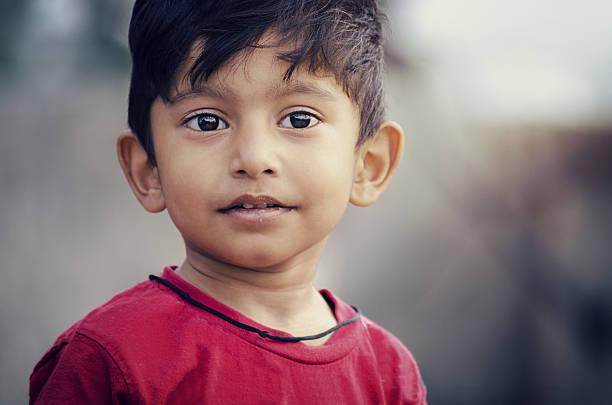Healthy: (109, 0, 404, 291)
